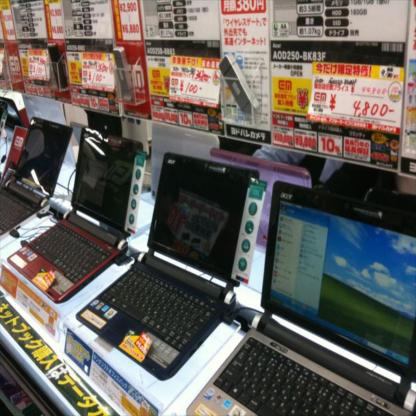board: (186, 181, 416, 415), (76, 150, 258, 376), (7, 123, 144, 304), (209, 145, 312, 254), (0, 116, 74, 237), (152, 121, 220, 199), (23, 92, 77, 170)
